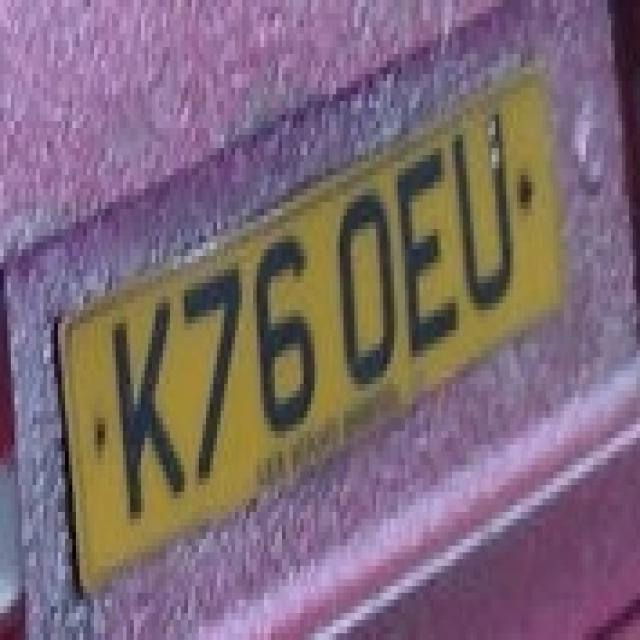LicensePlate: (54, 67, 632, 619)
